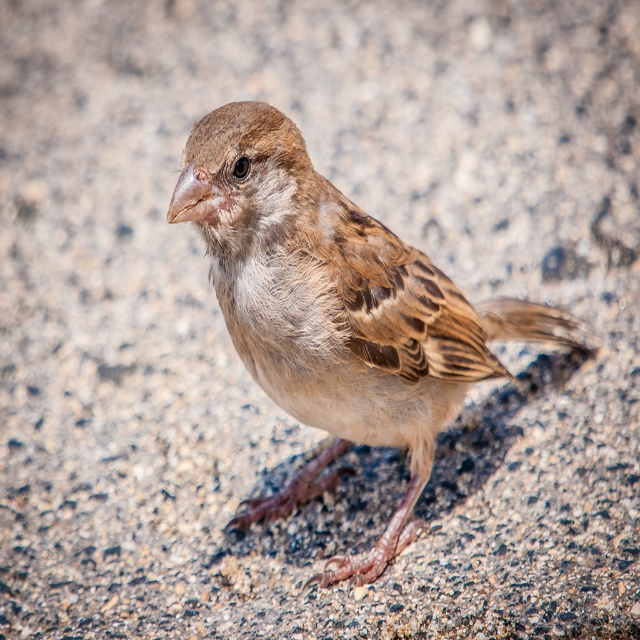Sparrow: (166, 100, 603, 593)
